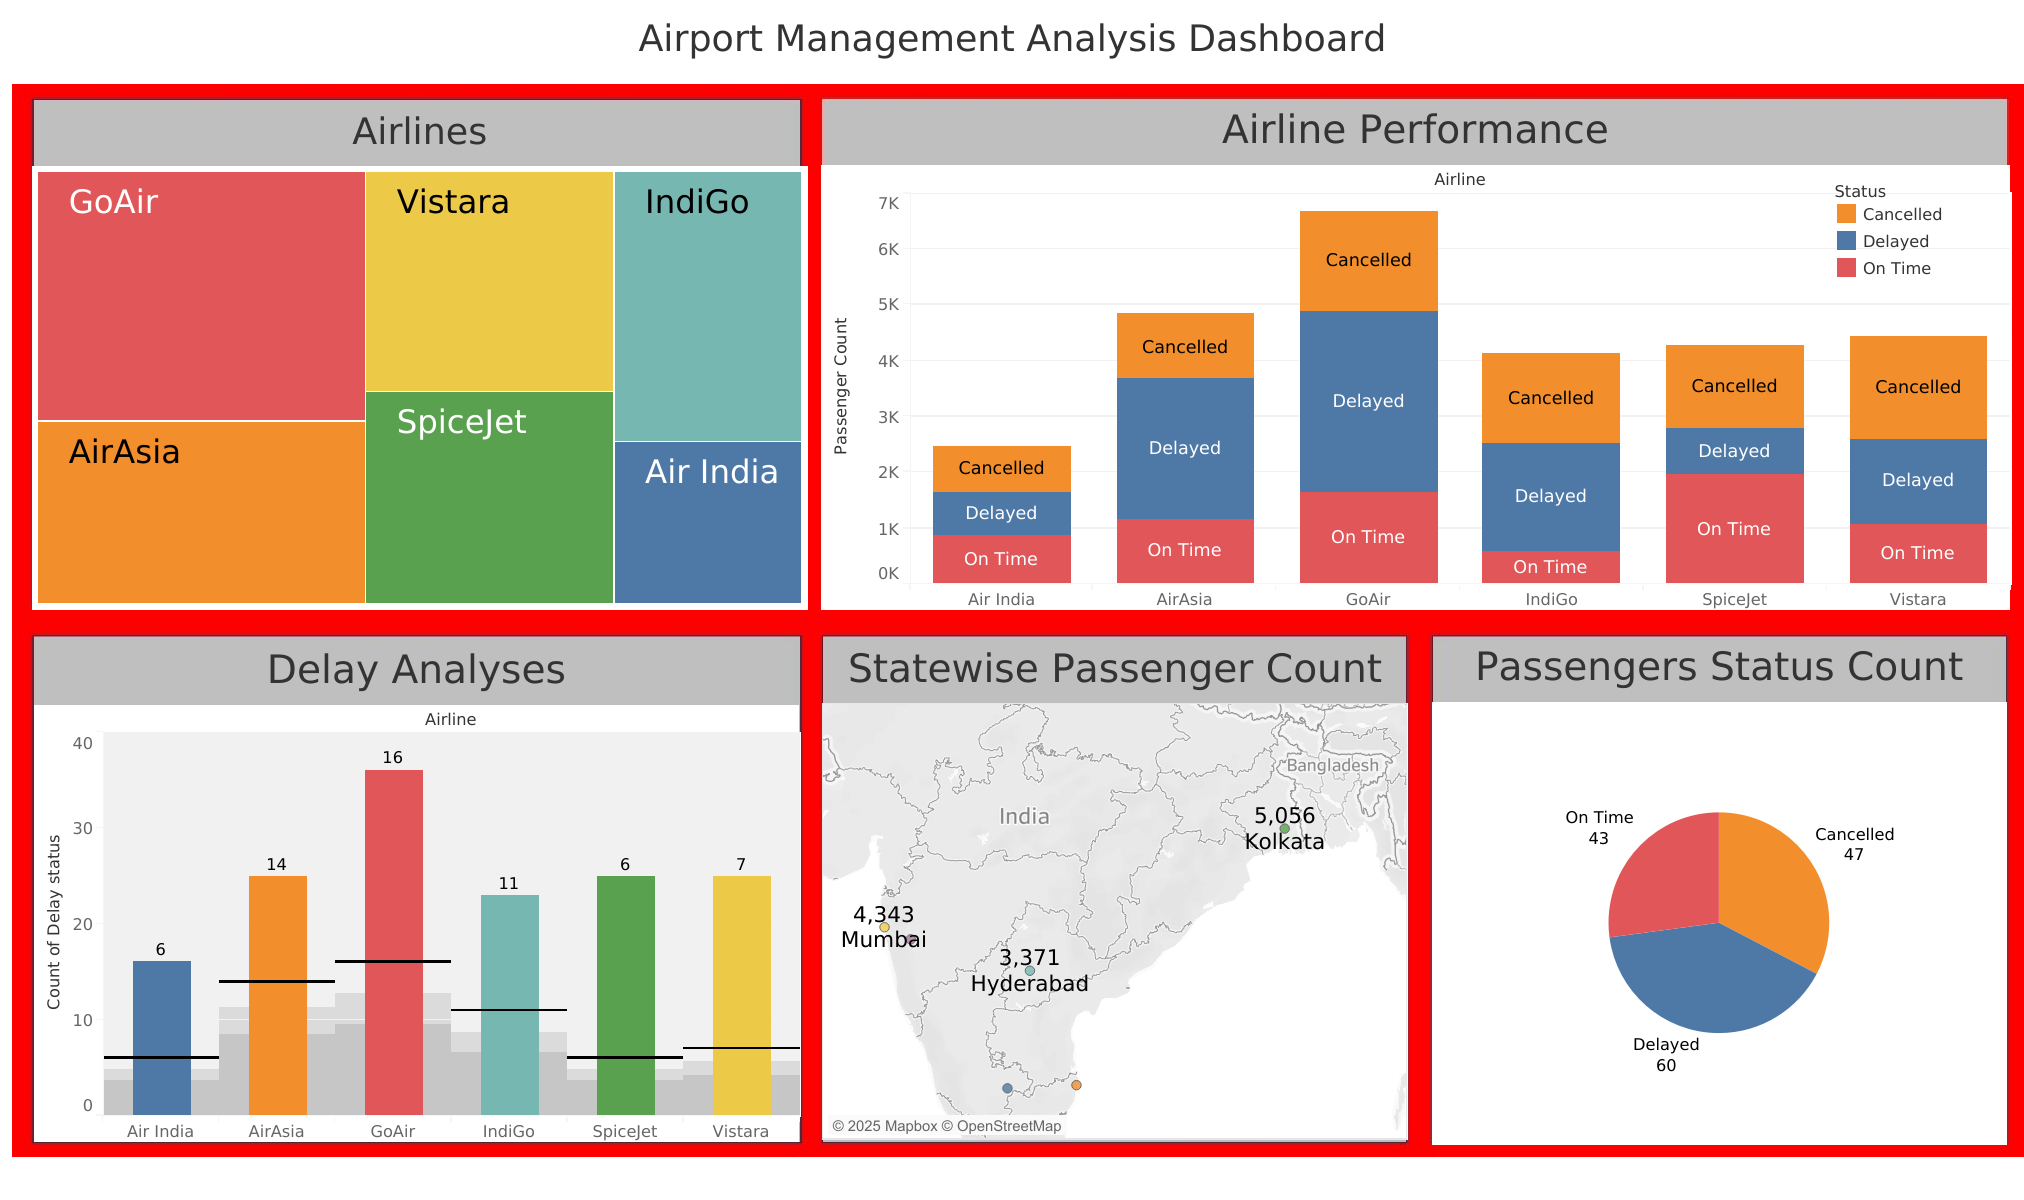

Layout of this report page (visuals, bound fields, positions):
{"tool":"tableau","page":{"name":"Dashboard 1","canvas":[1500,890],"ordinal":0},"visuals":[{"type":"title","box":[8,8,1484,45]},{"type":"worksheet","title":"Sheet 1","mark":"Automatic","rows":["PassengerCount"],"cols":["Airline"],"box":[608,73,881,379]},{"type":"worksheet","title":"Sheet 3","mark":"Automatic","box":[24,75,574,376]},{"type":"legend","title":"Sheet 1","param":"[federated.1cjbdo70xl45lp13m2eg70umct3o].[none:Status:nk]","box":[1358,132,140,78]},{"type":"worksheet","title":"Sheet 2","mark":"Pie","box":[1061,471,425,376]},{"type":"worksheet","title":"Sheet 4","mark":"Multipolygon","box":[609,472,434,373]},{"type":"worksheet","title":"Sheet 5","mark":"Automatic","rows":["Calculation_893401611630039043"],"cols":["Airline"],"box":[25,473,567,373]}]}

Visuals, with their boxes in screenshot pixels (x1, y1, x2, y2), scaled from the page's 1500x890 canvas onto the 2024x1200 screenshot:
title: (11, 11, 2013, 71)
"Sheet 1" worksheet: (820, 98, 2009, 609)
"Sheet 3" worksheet: (32, 101, 807, 608)
"Sheet 1" legend: (1832, 178, 2021, 283)
"Sheet 2" worksheet (Pie marks): (1432, 635, 2005, 1142)
"Sheet 4" worksheet (Multipolygon marks): (822, 636, 1407, 1139)
"Sheet 5" worksheet: (34, 638, 799, 1141)
